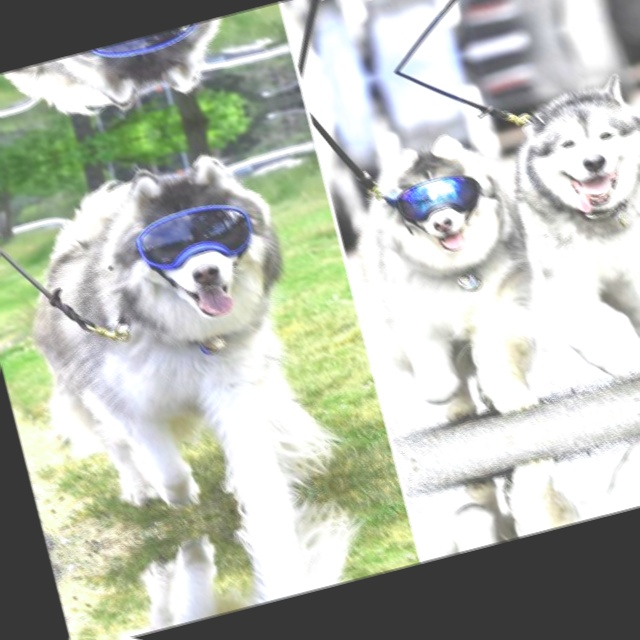dog: (0, 134, 353, 555), (71, 482, 377, 640), (0, 16, 253, 156)
